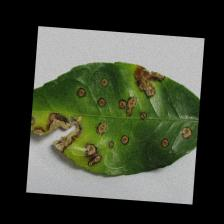canker: (38, 63, 197, 167)
